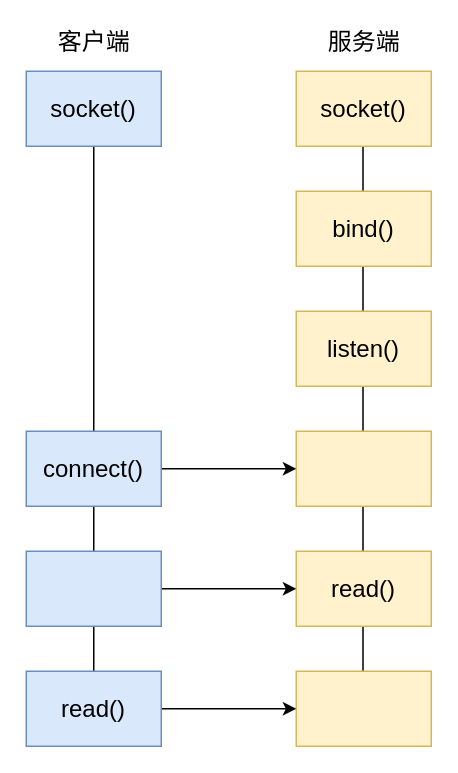
The diagram is 458 pixels wide and 773 high, and some of its shapes have lost their labels. The shapes that lost their labels are listed below. From the top down, each one's centre as x and y in pixels, then its label:
At (x=363, y=468): "accept()".
At (x=93, y=588): "write()".
At (x=363, y=708): "wirte()".
